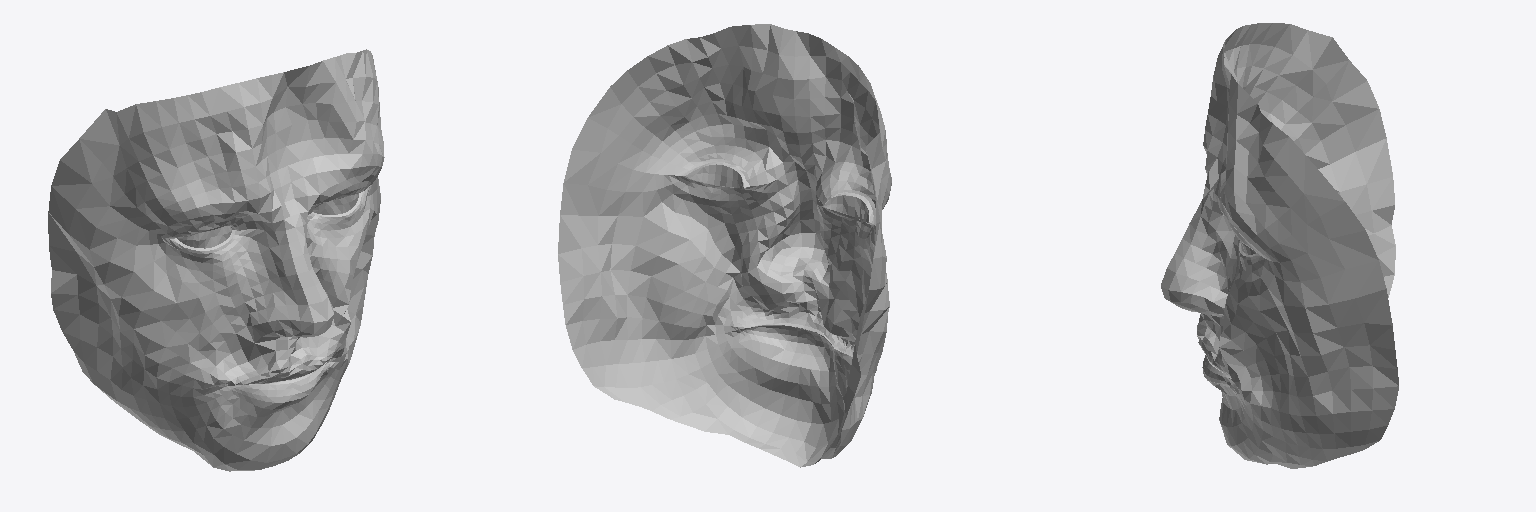
Rendered from clothface.obj.
3 views of the same model, side by side, from view 1: azimuth 30°, elevation 25°; view 2: azimuth 150°, elevation 25°; view 3: azimuth 270°, elevation 25° (orthographic).
Parts seen in each view (by area): view 1: faceMesh; view 2: faceMesh; view 3: faceMesh.
Part boxes in pixels (x1,y1,x2,y2): faceMesh: (48, 49, 384, 471); faceMesh: (558, 24, 891, 467); faceMesh: (1161, 23, 1398, 468).
Bounding box in the file's own units: 0.1495 × 0.1887 × 0.0996.